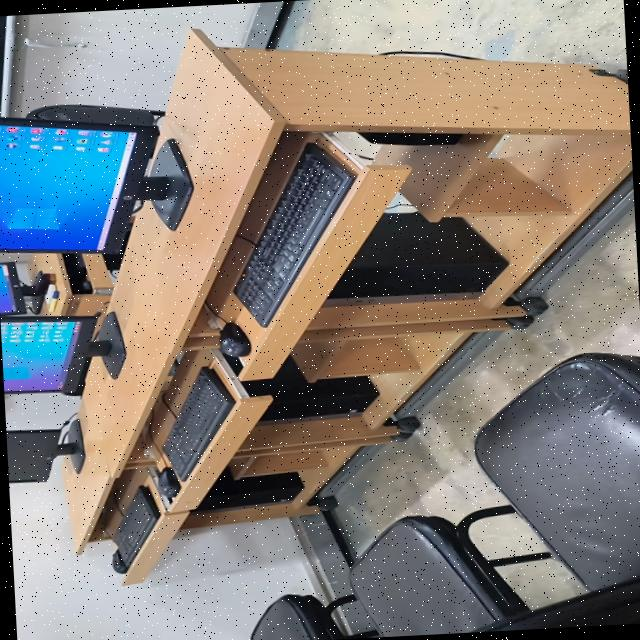Chair: (468, 352, 640, 633), (349, 506, 550, 637), (250, 594, 378, 640), (25, 105, 163, 126)
Cpu: (323, 212, 506, 307), (242, 356, 378, 426), (190, 468, 303, 514)
Keyboard: (234, 143, 355, 327), (162, 367, 235, 481), (110, 485, 160, 569)
Monitor: (0, 117, 192, 253), (0, 314, 124, 393), (5, 417, 84, 483), (0, 262, 44, 315)
Mouse: (219, 323, 250, 357), (157, 468, 179, 497), (112, 550, 128, 574)
